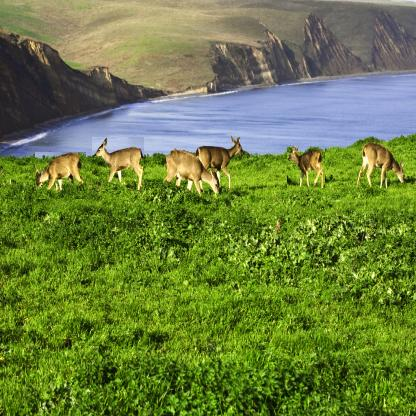Deer: (164, 147, 221, 204), (92, 137, 144, 191), (196, 136, 244, 193), (357, 141, 406, 190), (35, 152, 86, 199), (287, 146, 325, 192)
